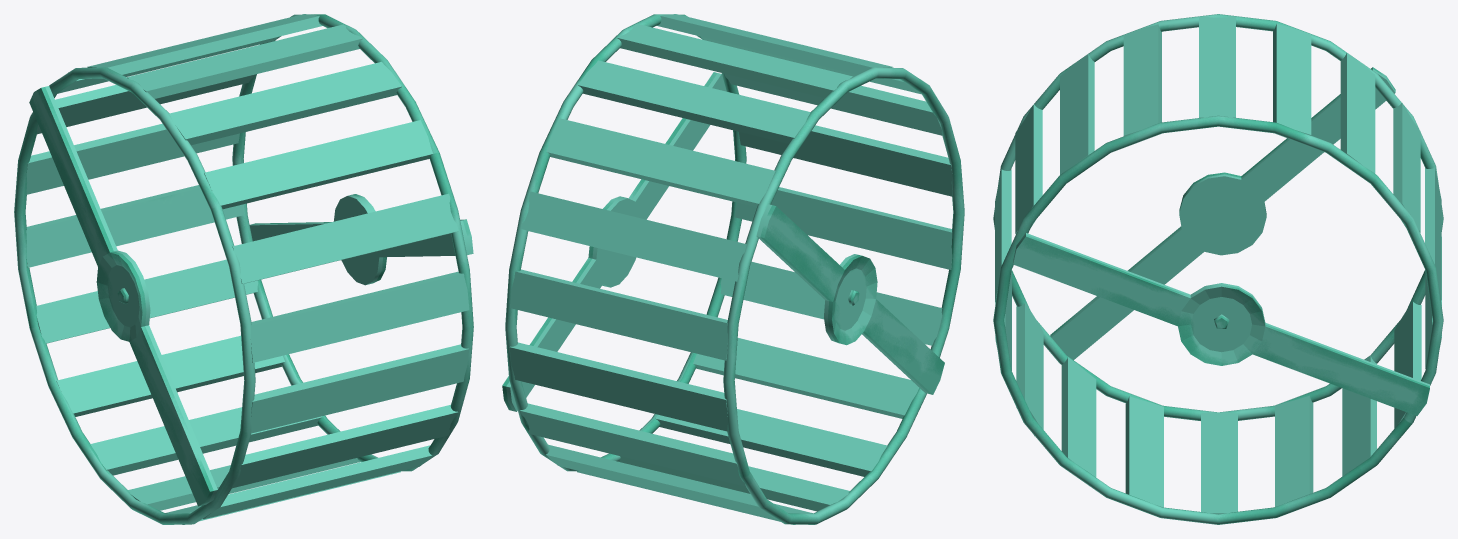
Rendered from rueda.FBX.
The picture shows the model from 3 angles, left to right: view 1: azimuth 30°, elevation 25°; view 2: azimuth 150°, elevation 25°; view 3: azimuth 270°, elevation 25°; orthographic projection. The views are drawn at different scales.
Visible parts, largest first — view 1: Torus003; view 2: Torus003; view 3: Torus003.
Part boxes in pixels (x1=…): Torus003: x1=14, y1=14, x2=473, y2=524; Torus003: x1=502, y1=14, x2=964, y2=524; Torus003: x1=993, y1=14, x2=1443, y2=524.
Size of the model in its own units: 59.55 by 99.47 by 99.47.
